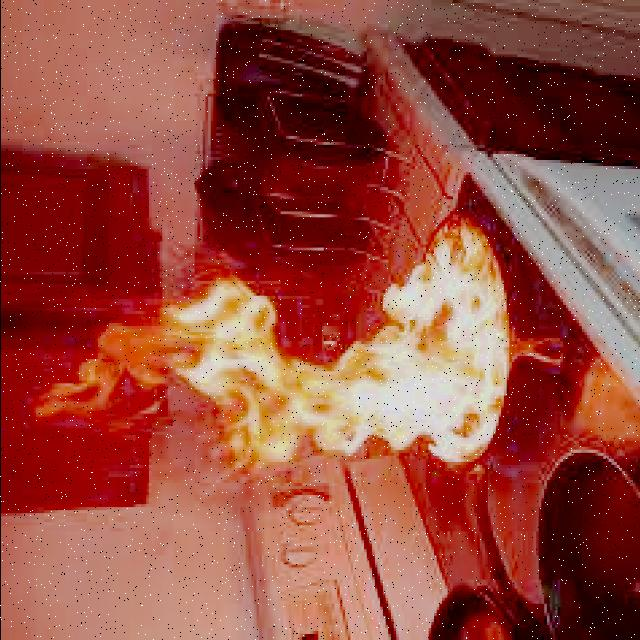api: (47, 228, 507, 518)
